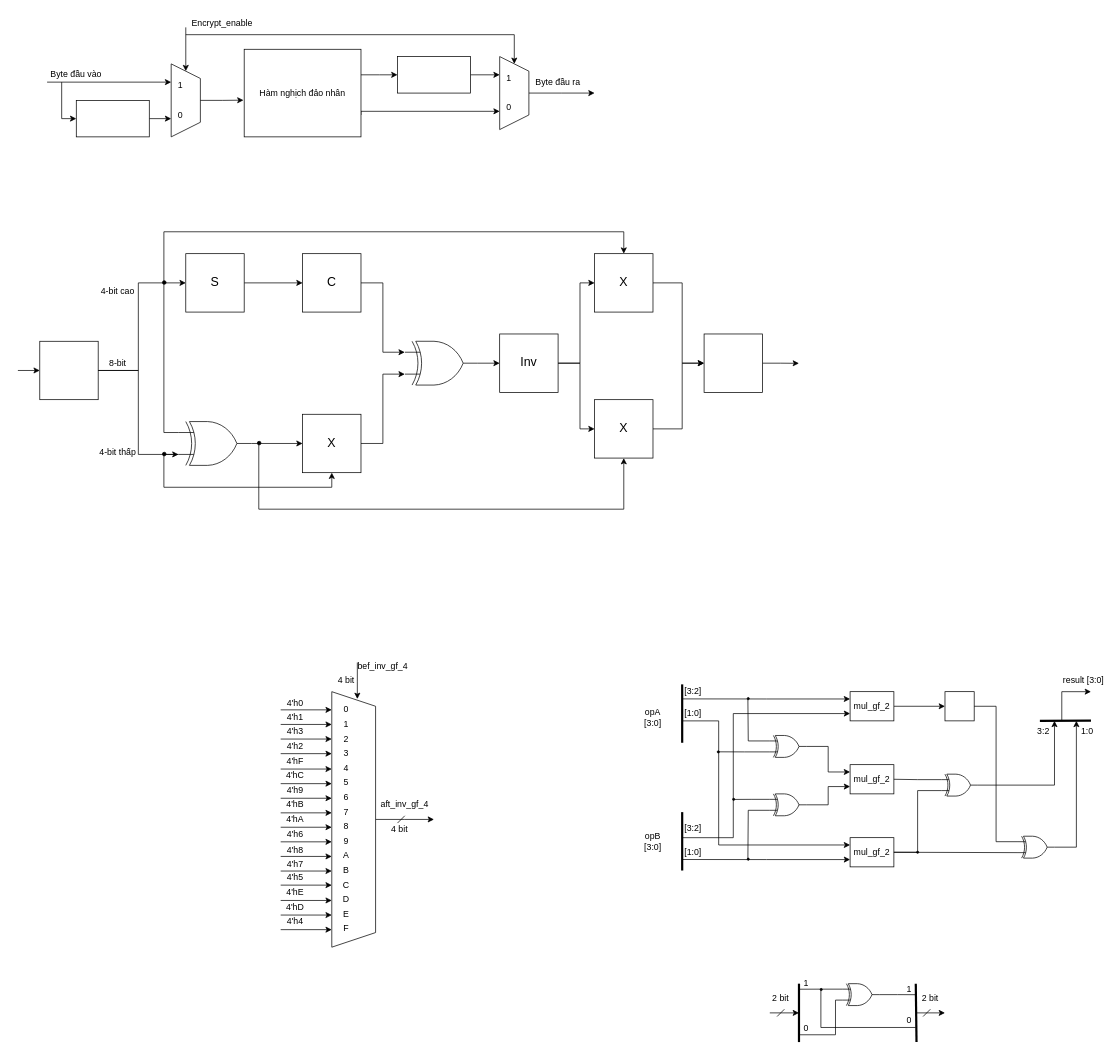
Some shapes in this 1118 by 1056 pixel diagram are drawn without their labels. The centre of each missing label's shape, as x and y in pixels:
Biến đổi Affine: [433,74]
Biến đổi Affine nghịch đảo: [112,118]
Imp x: [68,370]
ImpInv x: [732,362]
xPhi: [959,706]
